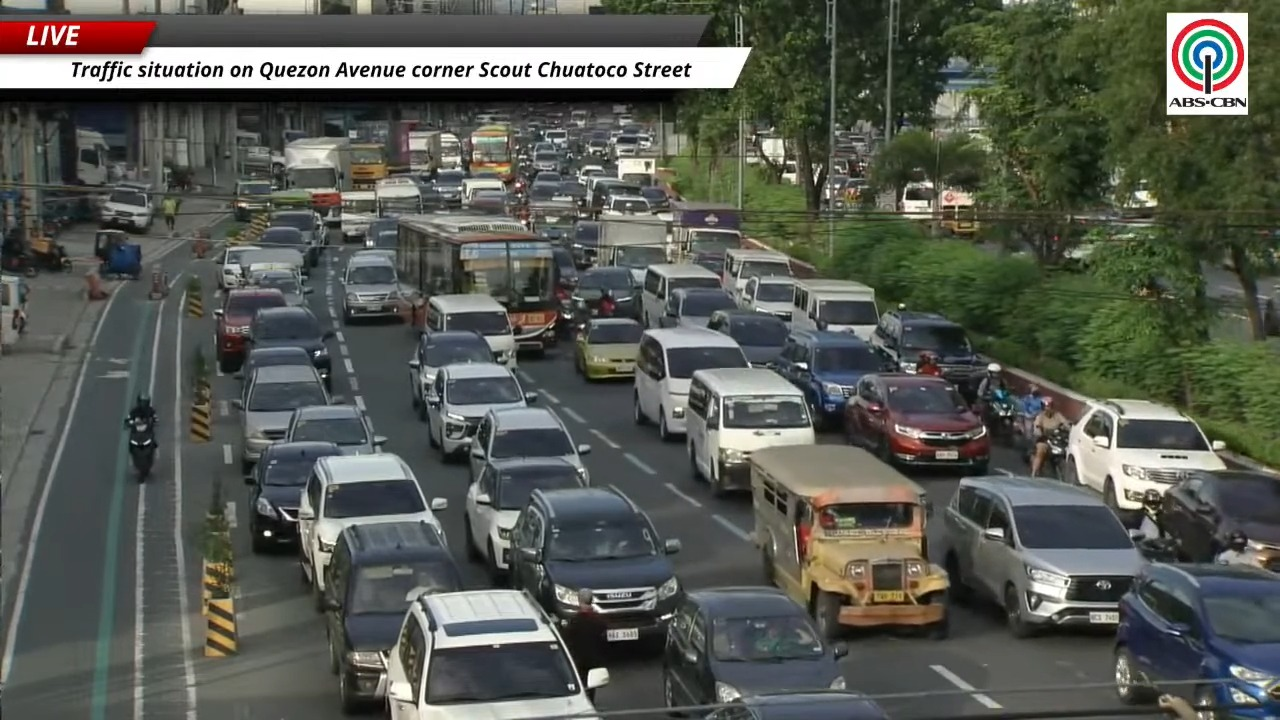bus: (396, 215, 559, 350), (469, 124, 514, 179)
car: (943, 475, 1144, 637), (387, 589, 608, 719), (509, 487, 682, 642), (325, 522, 463, 712), (1114, 564, 1279, 719), (298, 453, 446, 610), (662, 587, 847, 706), (1065, 399, 1226, 519), (843, 373, 990, 474), (464, 458, 583, 577), (633, 327, 749, 441), (1159, 470, 1279, 571), (774, 330, 890, 427), (232, 366, 330, 474), (426, 363, 536, 458), (246, 442, 341, 552), (872, 309, 986, 391), (469, 405, 590, 482), (408, 330, 491, 420), (247, 306, 334, 386), (214, 288, 288, 372), (705, 691, 887, 719), (284, 405, 386, 454), (707, 307, 789, 366), (574, 318, 643, 380), (341, 255, 400, 323), (571, 266, 640, 320), (268, 210, 324, 266), (658, 289, 736, 327), (99, 184, 155, 232), (256, 226, 313, 273), (738, 276, 794, 321), (236, 346, 313, 378), (253, 270, 310, 306), (217, 246, 262, 290), (232, 179, 273, 221), (552, 244, 578, 298), (571, 220, 600, 268), (601, 188, 651, 215), (432, 169, 466, 208), (364, 218, 397, 250), (640, 186, 669, 212), (350, 248, 394, 262)
motorcycle: (126, 417, 156, 481), (983, 390, 1017, 445), (1041, 426, 1070, 482), (1135, 537, 1178, 561)
truck: (284, 138, 352, 226), (596, 215, 669, 282), (671, 200, 741, 261), (76, 128, 110, 185), (387, 119, 422, 174), (939, 188, 978, 236), (375, 177, 423, 216), (349, 142, 387, 189), (407, 130, 440, 174), (616, 157, 657, 186), (747, 136, 785, 165), (441, 132, 463, 169)
